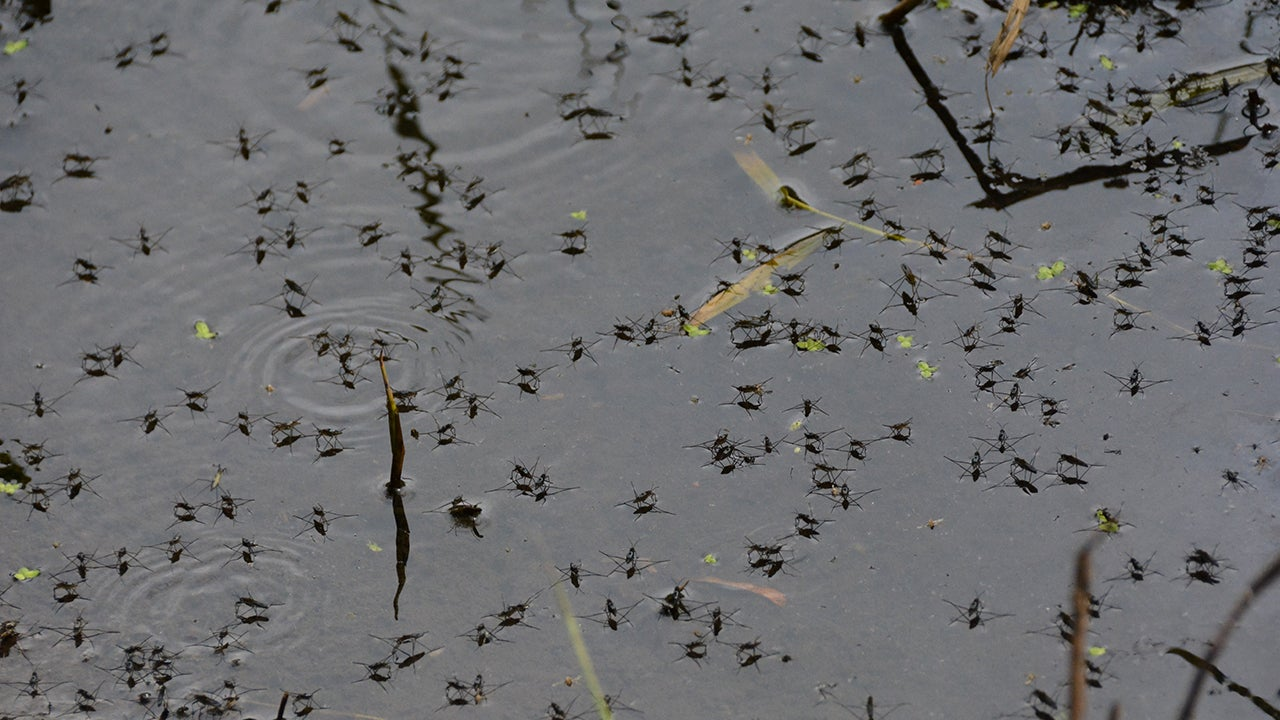Breeding_detected: (112, 637, 190, 714), (61, 329, 150, 390), (690, 429, 788, 483), (884, 253, 941, 327), (650, 569, 711, 630), (940, 444, 1002, 497), (204, 129, 280, 172), (544, 218, 611, 264), (173, 373, 226, 426), (612, 481, 672, 526), (1244, 202, 1273, 292), (100, 225, 183, 256), (942, 592, 997, 638), (1049, 446, 1112, 486), (443, 495, 501, 538), (1178, 311, 1231, 347), (837, 146, 886, 172)
